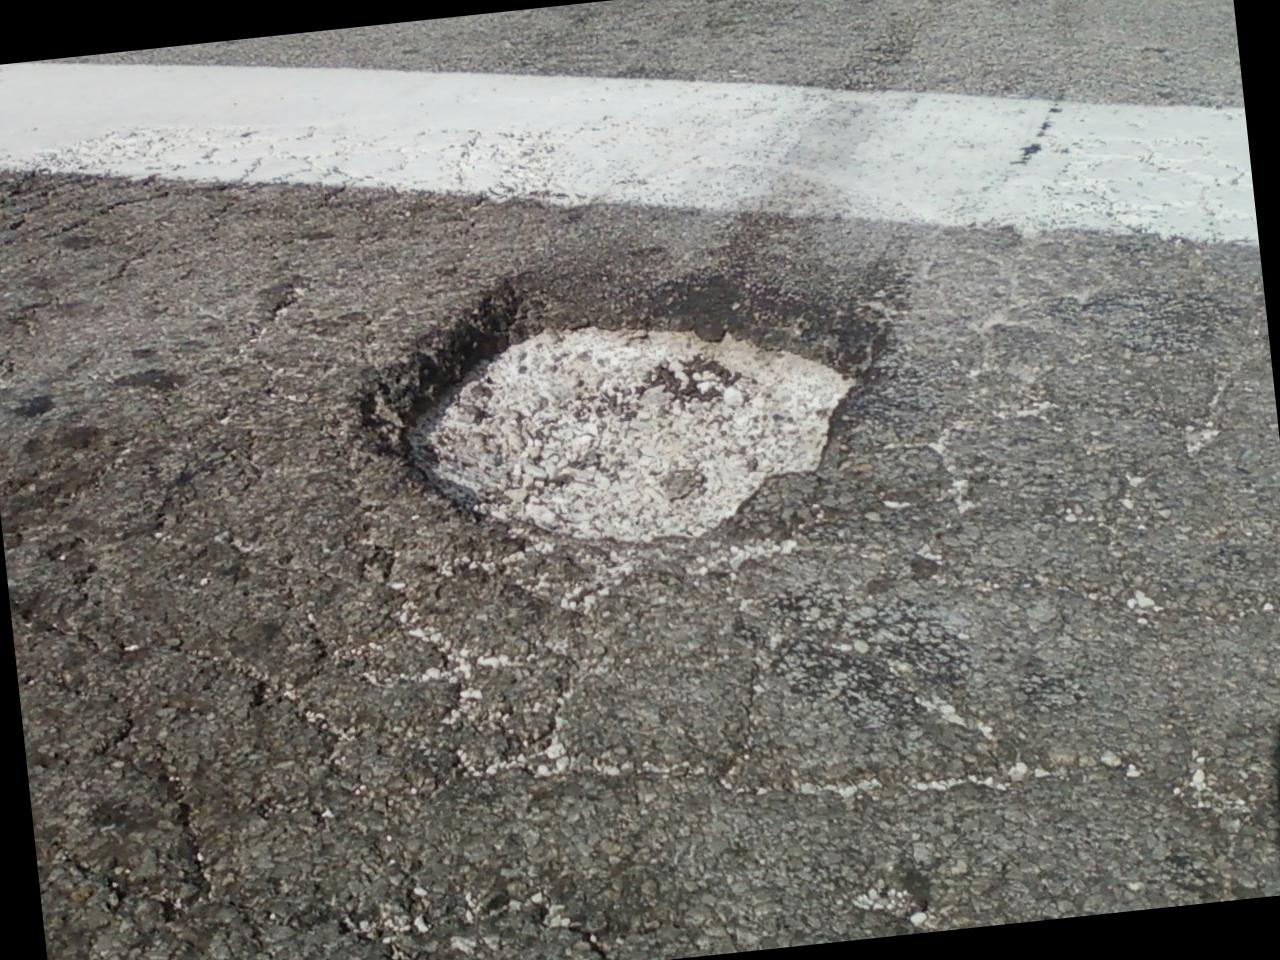pothole: (355, 221, 907, 576)
